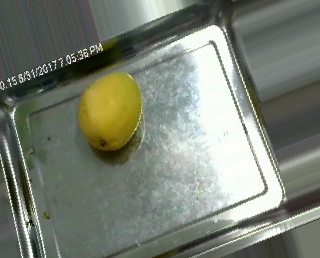Mango: (75, 69, 147, 155)
